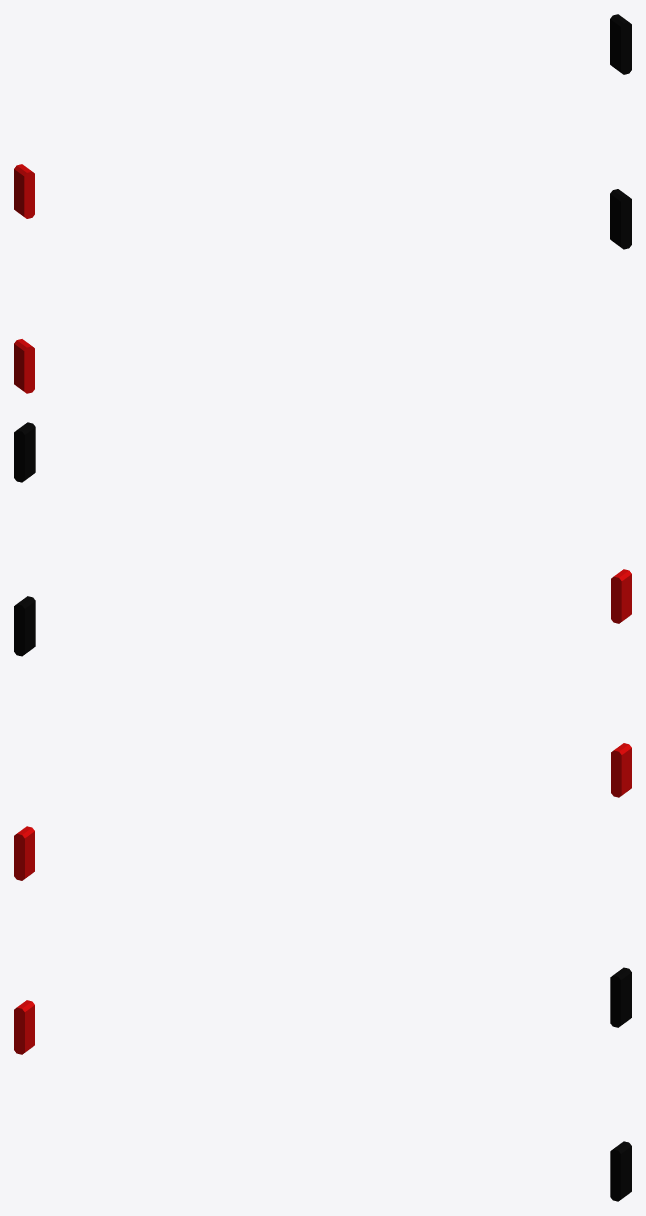
The model's file is SM_TransitSystemV1_CarSedan_Lens.obj.
3 renders of one model, top to bottom at view 1: azimuth 30°, elevation 25°; view 2: azimuth 150°, elevation 25°; view 3: azimuth 330°, elevation 25°, orthographic.
Parts seen in each view (by area): view 1: Headlamp_1, Headlamp_-1, Taillamp_-1, Taillamp_1; view 2: Headlamp_1, Headlamp_-1, Taillamp_-1, Taillamp_1; view 3: Headlamp_-1, Headlamp_1, Taillamp_1, Taillamp_-1.
Boxes of the visible parts, x1=… form: Headlamp_1: x1=610, y1=189, x2=631, y2=249; Headlamp_-1: x1=610, y1=14, x2=631, y2=74; Taillamp_-1: x1=14, y1=164, x2=34, y2=218; Taillamp_1: x1=14, y1=339, x2=34, y2=393; Headlamp_1: x1=14, y1=596, x2=35, y2=656; Headlamp_-1: x1=14, y1=422, x2=35, y2=482; Taillamp_-1: x1=611, y1=569, x2=631, y2=623; Taillamp_1: x1=611, y1=743, x2=631, y2=797; Headlamp_-1: x1=610, y1=967, x2=631, y2=1027; Headlamp_1: x1=610, y1=1141, x2=631, y2=1201; Taillamp_1: x1=14, y1=1000, x2=34, y2=1054; Taillamp_-1: x1=14, y1=826, x2=34, y2=880.
Bounding box in the file's own units: 446 × 158 × 15.5.
